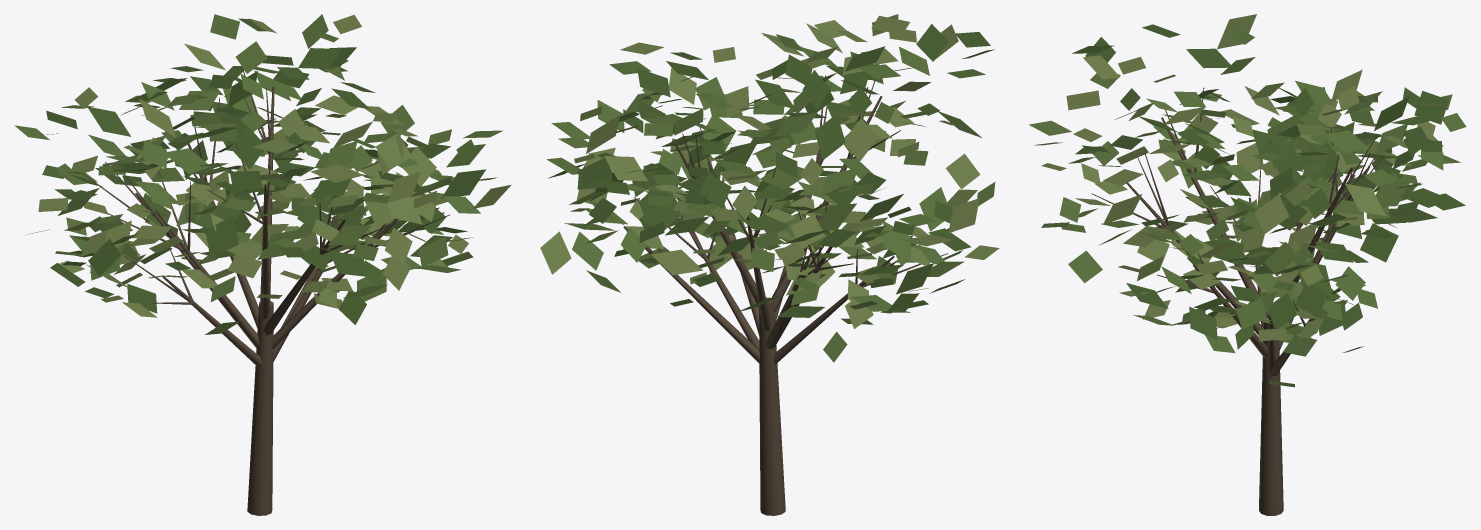
File: street_plane_tree.glb
3 views of the same model, side by side, from view 1: azimuth 30°, elevation 25°; view 2: azimuth 150°, elevation 25°; view 3: azimuth 270°, elevation 25° (orthographic). The views are drawn at different scales.
Parts seen in each view (by area): view 1: Leaf_2, Leaf_0, Leaf_1, Tree_bark; view 2: Leaf_0, Leaf_1, Leaf_2, Tree_bark; view 3: Leaf_0, Leaf_1, Leaf_2, Tree_bark.
Boxes of the visible parts, <box> form: Leaf_2: <box>38,14,511,317</box>; Leaf_0: <box>41,18,485,334</box>; Leaf_1: <box>14,14,502,301</box>; Tree_bark: <box>83,66,449,515</box>; Leaf_0: <box>548,24,995,324</box>; Leaf_1: <box>546,14,995,362</box>; Leaf_2: <box>540,15,999,328</box>; Tree_bark: <box>623,75,948,515</box>; Leaf_0: <box>1072,24,1465,352</box>; Leaf_1: <box>1029,28,1466,387</box>; Leaf_2: <box>1041,14,1444,341</box>; Tree_bark: <box>1091,87,1387,515</box>.
Size of the model in its own units: 8 by 8.6 by 7.75.
